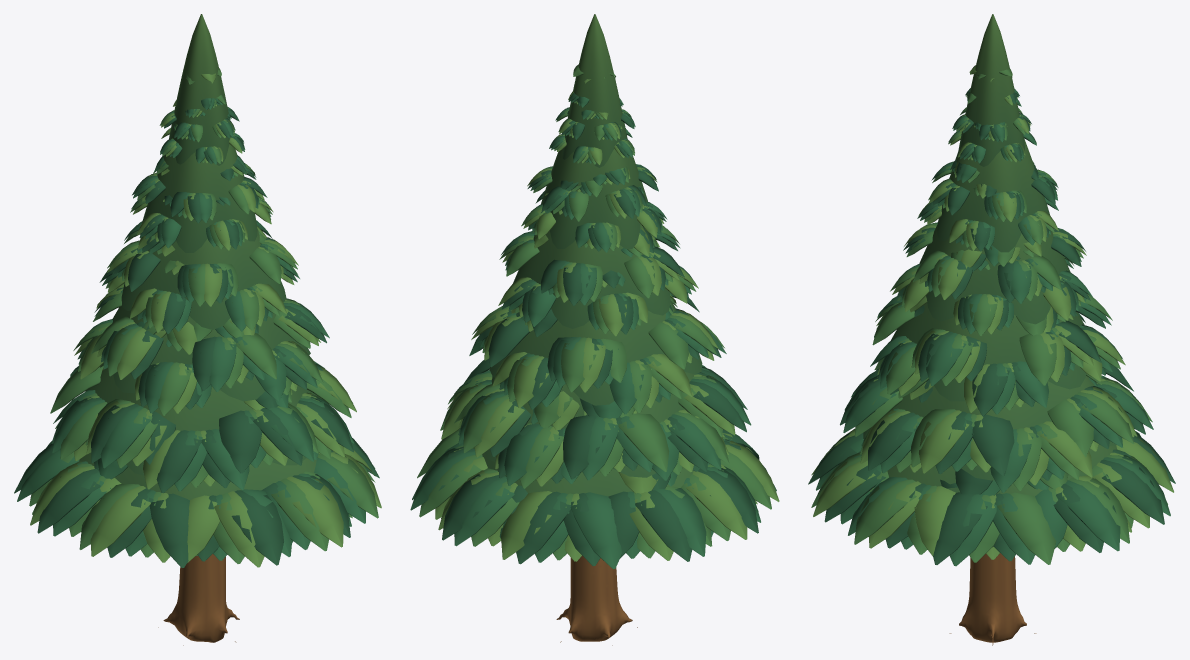
File: pine.glb
The picture shows the model from 3 angles, left to right: view 1: azimuth 30°, elevation 25°; view 2: azimuth 150°, elevation 25°; view 3: azimuth 270°, elevation 25°; orthographic projection.
Visible parts, largest first — view 1: Pine · original pointed tiers, Conifer · tapered trunk; view 2: Pine · original pointed tiers, Conifer · tapered trunk; view 3: Pine · original pointed tiers, Conifer · tapered trunk.
Boxes of the visible parts, x1=… form: Pine · original pointed tiers: x1=14, y1=14, x2=381, y2=567; Conifer · tapered trunk: x1=158, y1=554, x2=239, y2=645; Pine · original pointed tiers: x1=410, y1=14, x2=779, y2=569; Conifer · tapered trunk: x1=556, y1=555, x2=637, y2=645; Pine · original pointed tiers: x1=808, y1=14, x2=1175, y2=566; Conifer · tapered trunk: x1=949, y1=553, x2=1036, y2=645.
Size of the model in its own units: 1.46 by 2.72 by 1.46.
